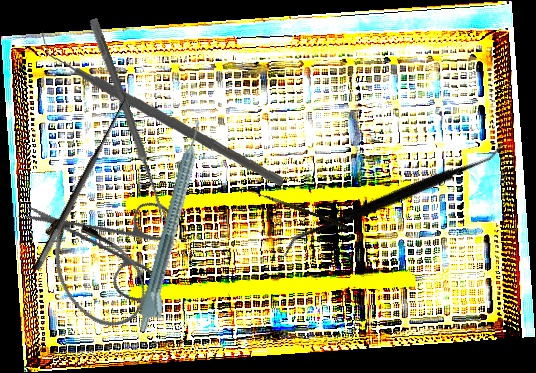Cannula: (27, 196, 161, 342)
Chopper: (41, 16, 284, 199)
Handpiece: (134, 117, 216, 337)
Hook Surgical: (19, 86, 134, 273), (240, 186, 348, 230)
Iris Scissors: (20, 150, 202, 332)
Spatula Surgical: (281, 76, 506, 324)
Surgical Spoon: (87, 17, 171, 223)
